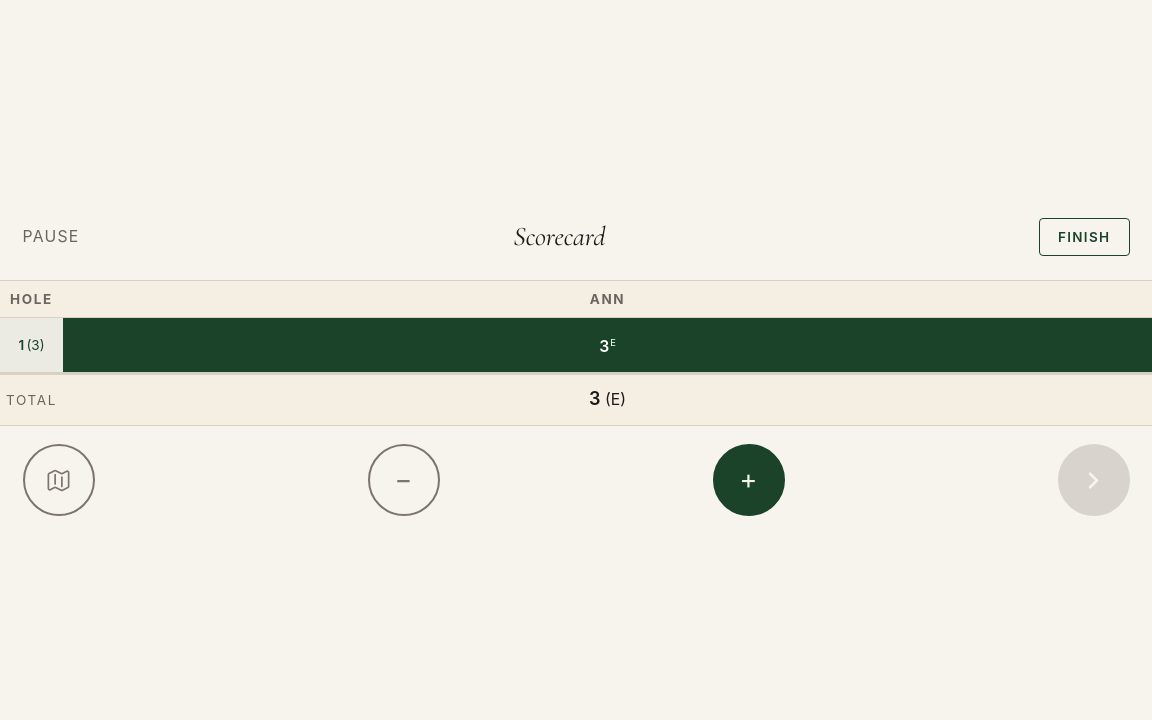
Test case: Scorecard - Finish sheet › Escape closes it and hands focus back to the Finish button
Click the button "Finish": (1084, 237) x1=1039 y1=218 x2=1130 y2=256
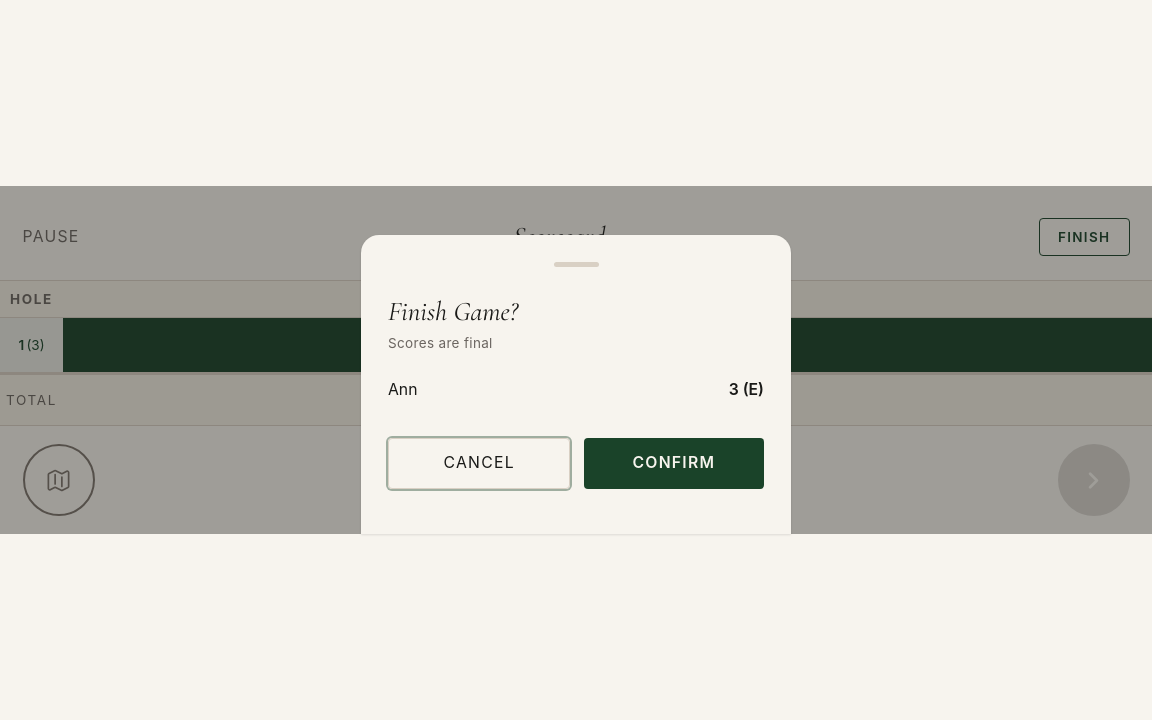
Press Escape
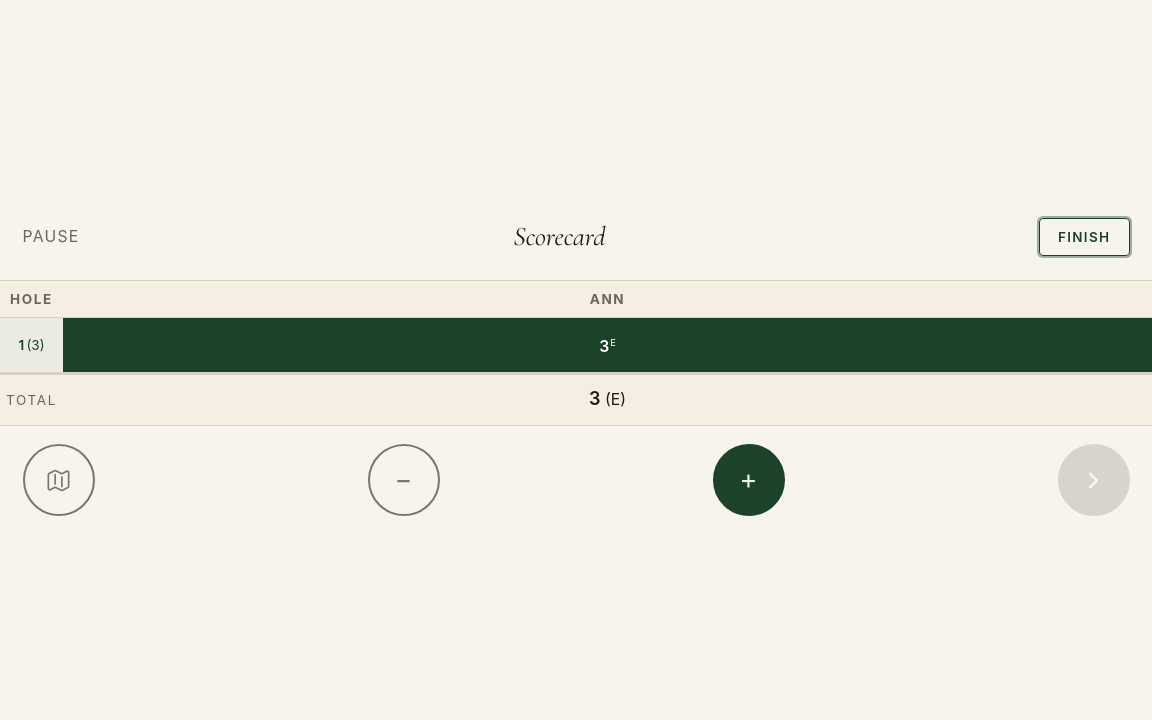
Expected: the dialog is gone
